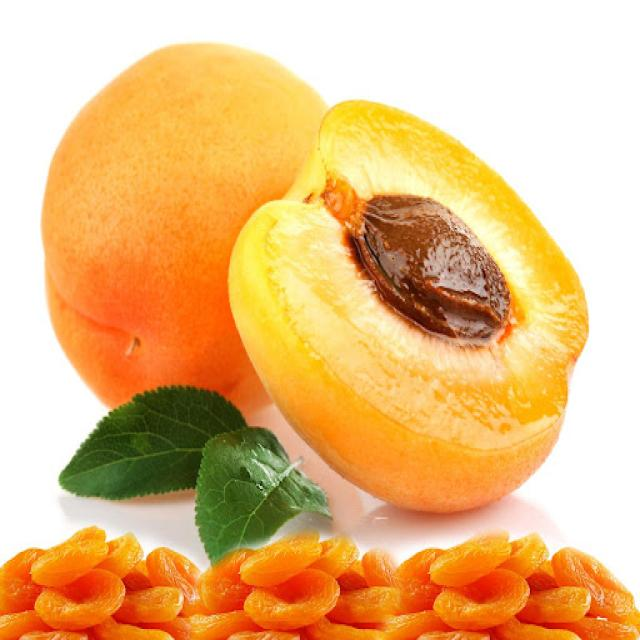cekirdek: (349, 198, 521, 342)
kayisi: (312, 105, 566, 482), (59, 46, 280, 408)
yaprak: (62, 393, 244, 499), (197, 429, 331, 566)
